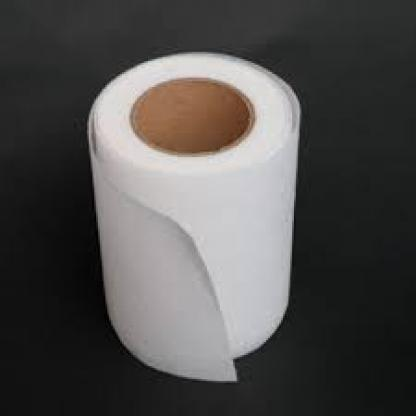tissue: (78, 43, 323, 394)
